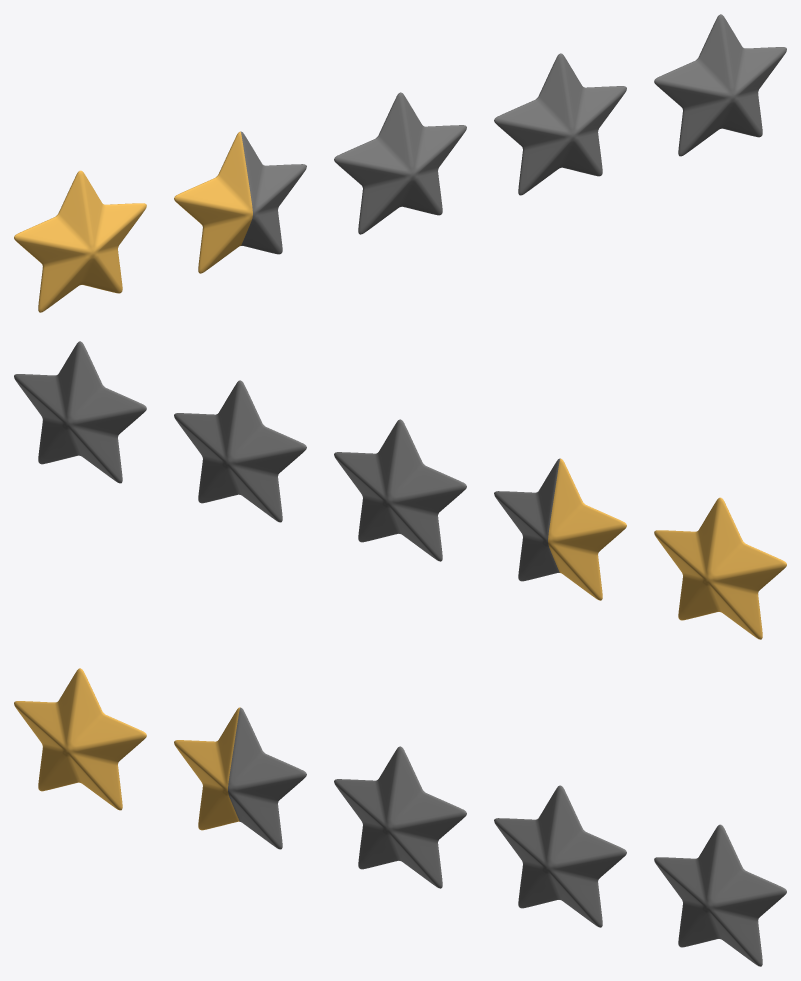
The picture shows the model from 3 angles, top to bottom: view 1: azimuth 30°, elevation 25°; view 2: azimuth 150°, elevation 25°; view 3: azimuth 330°, elevation 25°; orthographic projection.
Visible parts, largest first — view 1: Circle.260, Circle.256, Circle.258, Circle.257, Circle.259; view 2: Circle.260, Circle.256, Circle.258, Circle.257, Circle.259; view 3: Circle.259, Circle.256, Circle.257, Circle.258, Circle.260.
Boxes of the visible parts, x1,y1,x2,y2 form: Circle.260: (14,170,146,312); Circle.256: (334,92,466,234); Circle.258: (174,131,306,273); Circle.257: (494,53,626,195); Circle.259: (654,14,786,156); Circle.260: (654,497,786,639); Circle.256: (334,419,466,561); Circle.258: (494,458,626,600); Circle.257: (174,380,306,522); Circle.259: (14,341,146,483); Circle.259: (654,824,786,966); Circle.256: (334,746,466,888); Circle.257: (494,785,626,927); Circle.258: (174,707,306,849); Circle.260: (14,668,146,810).
Size of the model in its own units: 1.3 by 0.2133 by 0.0734.
